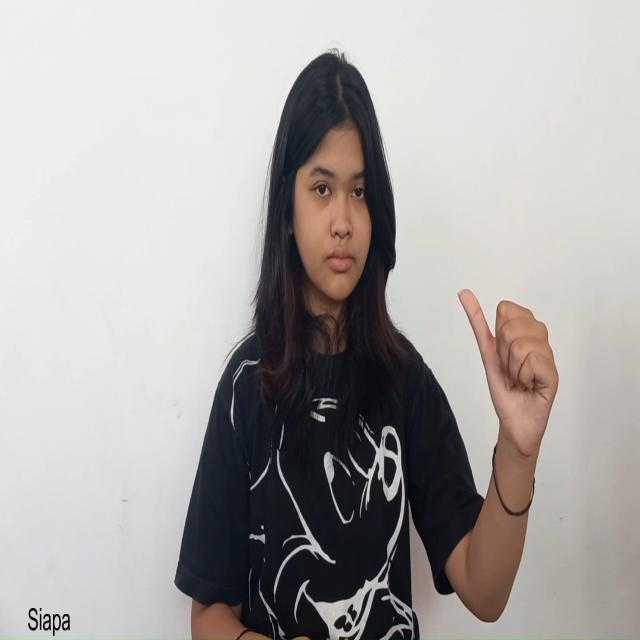Siapa -BISINDO-: (455, 282, 560, 472)
